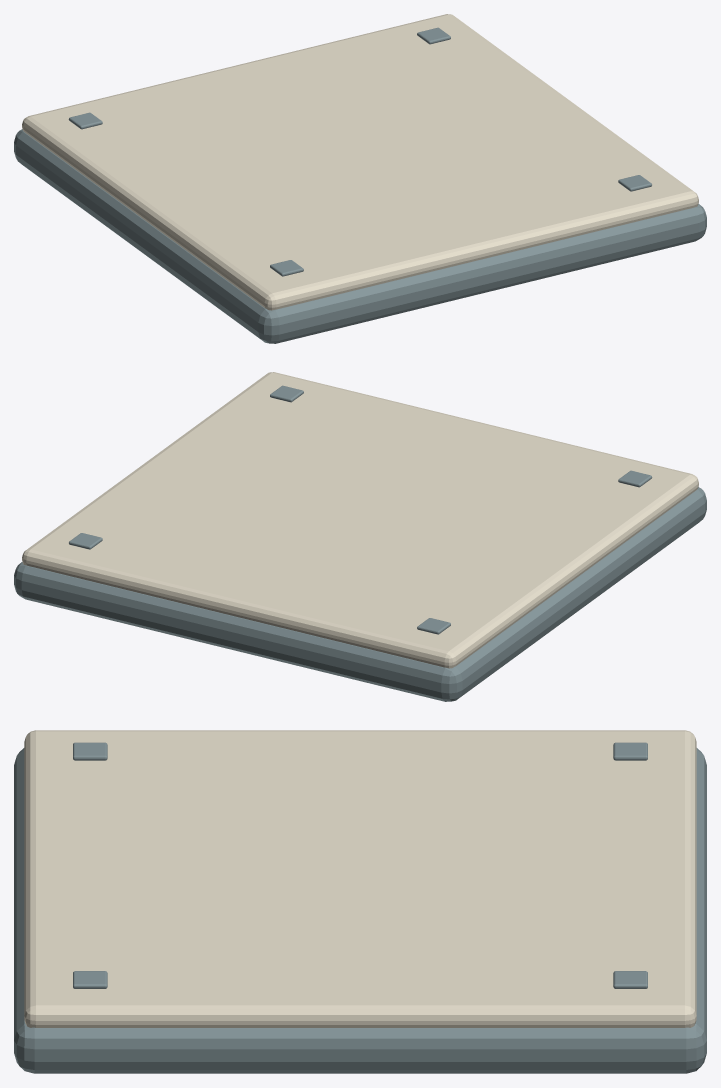
File: floor-2m.glb
3 views of the same model, one above another, from view 1: azimuth 30°, elevation 25°; view 2: azimuth 150°, elevation 25°; view 3: azimuth 270°, elevation 25° (orthographic). The views are drawn at different scales.
Visible parts, largest first — view 1: floor-2m__ivory, floor-2m__steel; view 2: floor-2m__ivory, floor-2m__steel; view 3: floor-2m__ivory, floor-2m__steel.
Boxes of the visible parts, x1,y1,x2,y2 form: floor-2m__ivory: [22, 14, 698, 310]; floor-2m__steel: [14, 27, 706, 343]; floor-2m__ivory: [22, 372, 698, 668]; floor-2m__steel: [14, 385, 706, 701]; floor-2m__ivory: [24, 730, 696, 1027]; floor-2m__steel: [14, 742, 706, 1073].
Bounding box in the file's own units: 2 × 0.2255 × 2.
